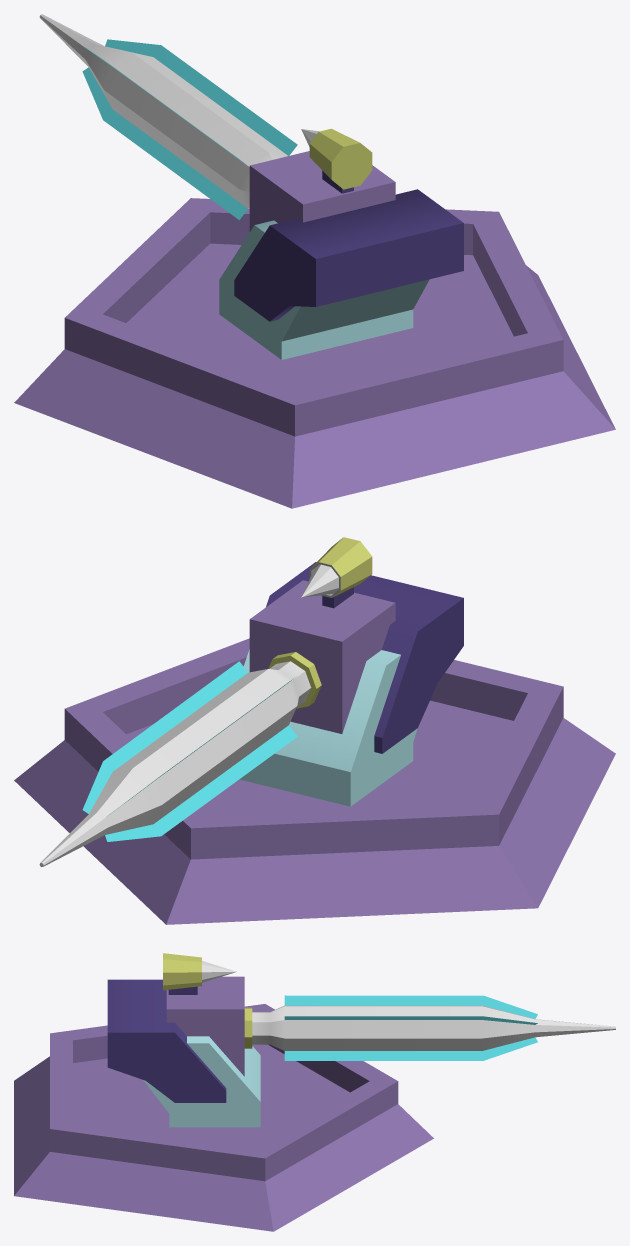
Rendered from Lightning Gun.fbx.
3 renders of one model, top to bottom at view 1: azimuth 30°, elevation 25°; view 2: azimuth 150°, elevation 25°; view 3: azimuth 270°, elevation 25°, orthographic. The views are drawn at different scales.
Parts seen in each view (by area): view 1: pCylinder3, pCylinder1, pCube4, pCube2, pCube1, pCone1; view 2: pCylinder3, pCylinder1, pCube1, pCube2, pCube4, pCone1; view 3: pCylinder3, pCylinder1, pCube4, pCube2, pCube1, pCone1.
Boxes of the visible parts, x1,y1,x2,y2 form: pCylinder3: (14, 198, 615, 508); pCylinder1: (39, 14, 297, 220); pCube4: (234, 189, 463, 321); pCube2: (219, 220, 429, 359); pCube1: (249, 151, 395, 231); pCone1: (301, 128, 372, 189); pCylinder3: (14, 638, 615, 924); pCylinder1: (39, 652, 321, 866); pCube1: (249, 580, 395, 733); pCube2: (239, 649, 417, 806); pCube4: (266, 562, 463, 753); pCone1: (301, 537, 372, 597); pCylinder3: (14, 1004, 433, 1231); pCylinder1: (244, 995, 615, 1060); pCube4: (107, 979, 226, 1102); pCube2: (143, 1036, 260, 1127); pCube1: (166, 976, 244, 1076); pCone1: (163, 953, 236, 990).
Bounding box in the file's own units: 5.67 × 2.58 × 7.73.
